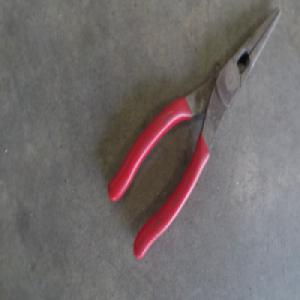Pliers: (105, 4, 277, 258)
